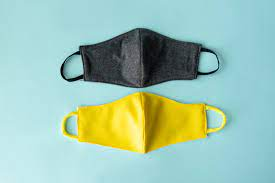FaceMask: (63, 92, 227, 154), (60, 28, 219, 89)
